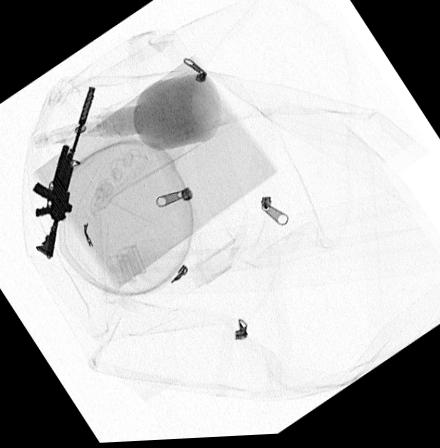Gun: (32, 83, 98, 257)
